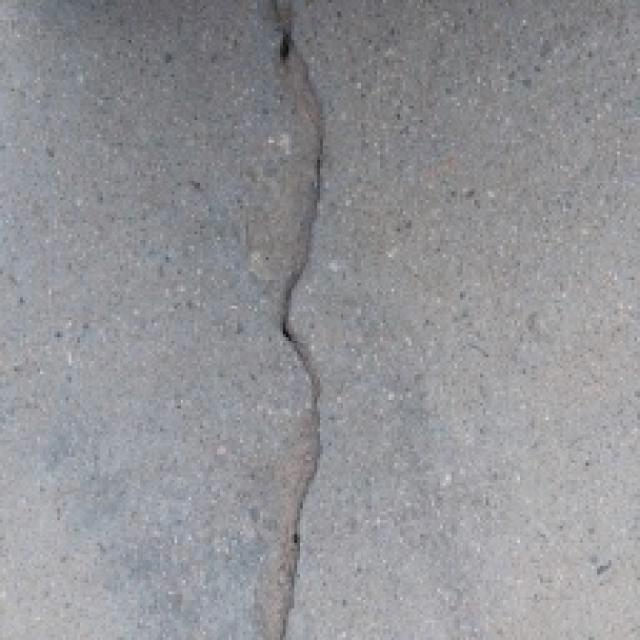crack: (234, 0, 368, 640)
